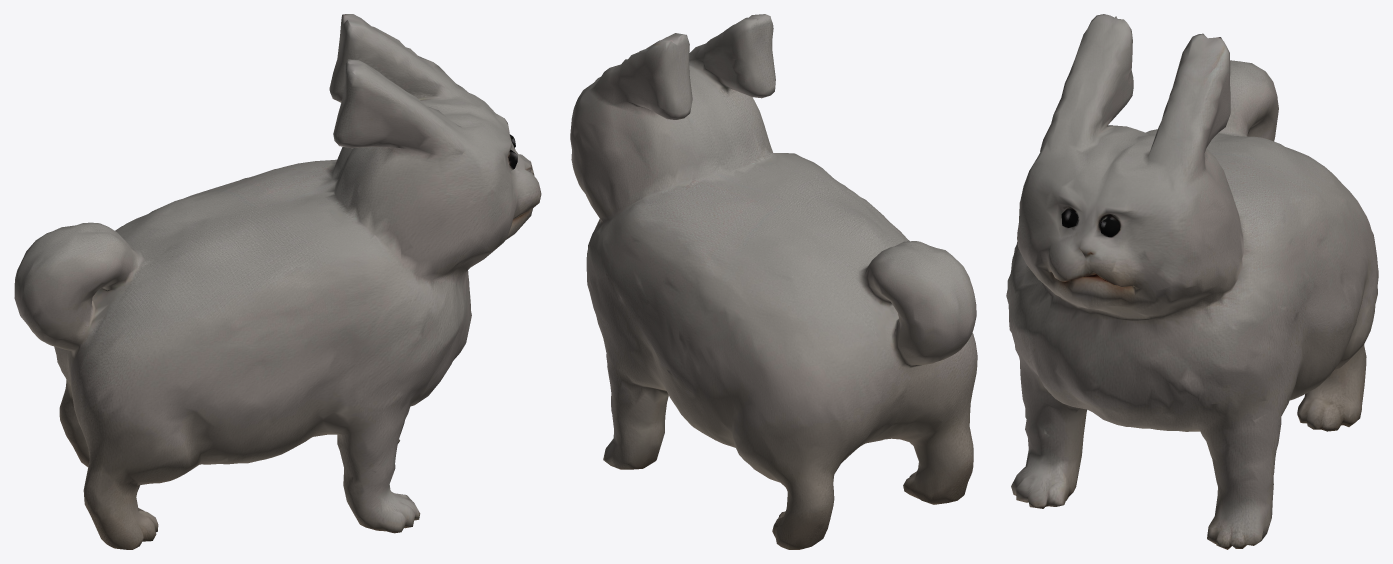
The model's file is gubby.glb.
The picture shows the model from 3 angles, left to right: view 1: azimuth 30°, elevation 25°; view 2: azimuth 150°, elevation 25°; view 3: azimuth 270°, elevation 25°; orthographic projection. The views are drawn at different scales.
Parts seen in each view (by area): view 1: tripo_node_9c0eaecc-92c7-4650-8761-84c2a78fe556_tripo_materi; view 2: tripo_node_9c0eaecc-92c7-4650-8761-84c2a78fe556_tripo_materi; view 3: tripo_node_9c0eaecc-92c7-4650-8761-84c2a78fe556_tripo_materi.
Boxes of the visible parts, bbox=[...] form: tripo_node_9c0eaecc-92c7-4650-8761-84c2a78fe556_tripo_materi: bbox=[14, 14, 541, 549]; tripo_node_9c0eaecc-92c7-4650-8761-84c2a78fe556_tripo_materi: bbox=[570, 14, 977, 549]; tripo_node_9c0eaecc-92c7-4650-8761-84c2a78fe556_tripo_materi: bbox=[1006, 14, 1378, 549].
Size of the model in its own units: 0.01 by 0.00937 by 0.0065.
1 material, 1 textured.
